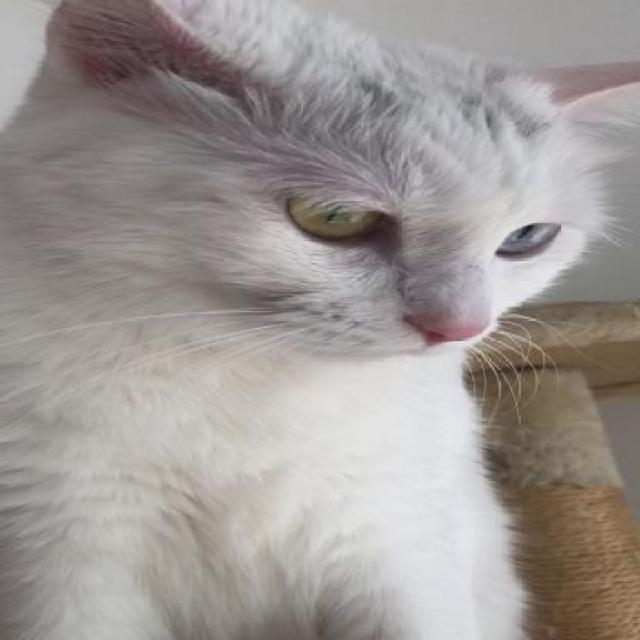cat-face: (24, 0, 639, 365)
